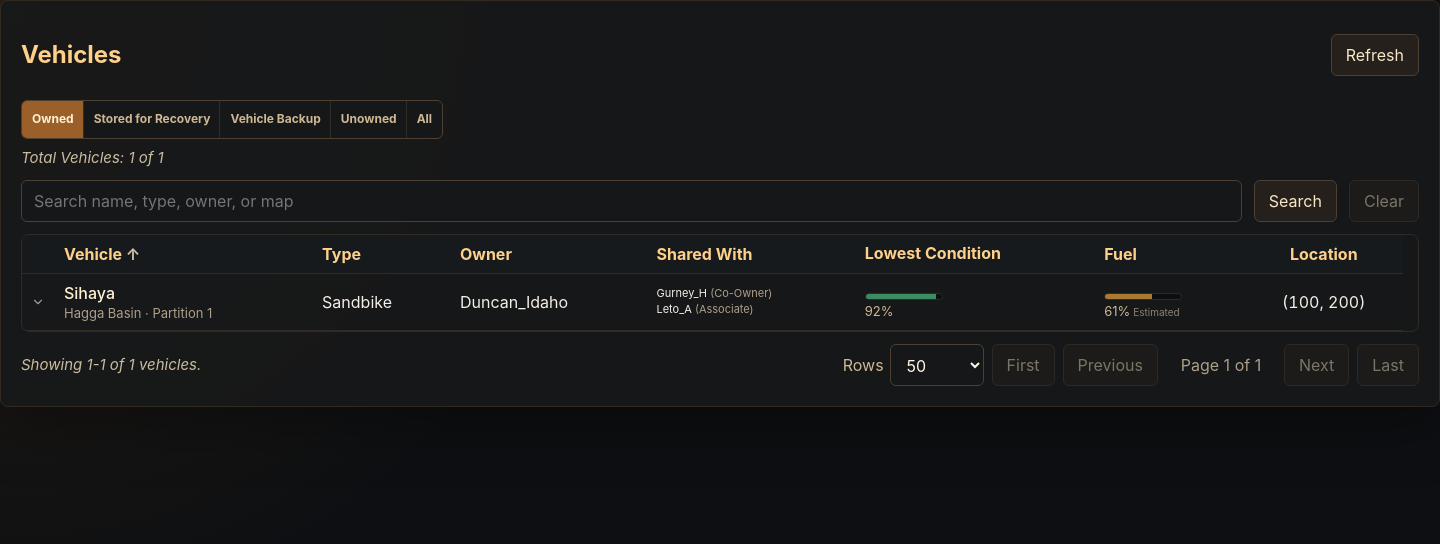
Scenario: VehiclesPanel › View Contents › hides the button when no storage module is fitted
What coordinates should you click on to do the following:
click the button named "Show components for Sihaya"
I would click on:
 (38, 302)
Its box is [26,290,50,314].
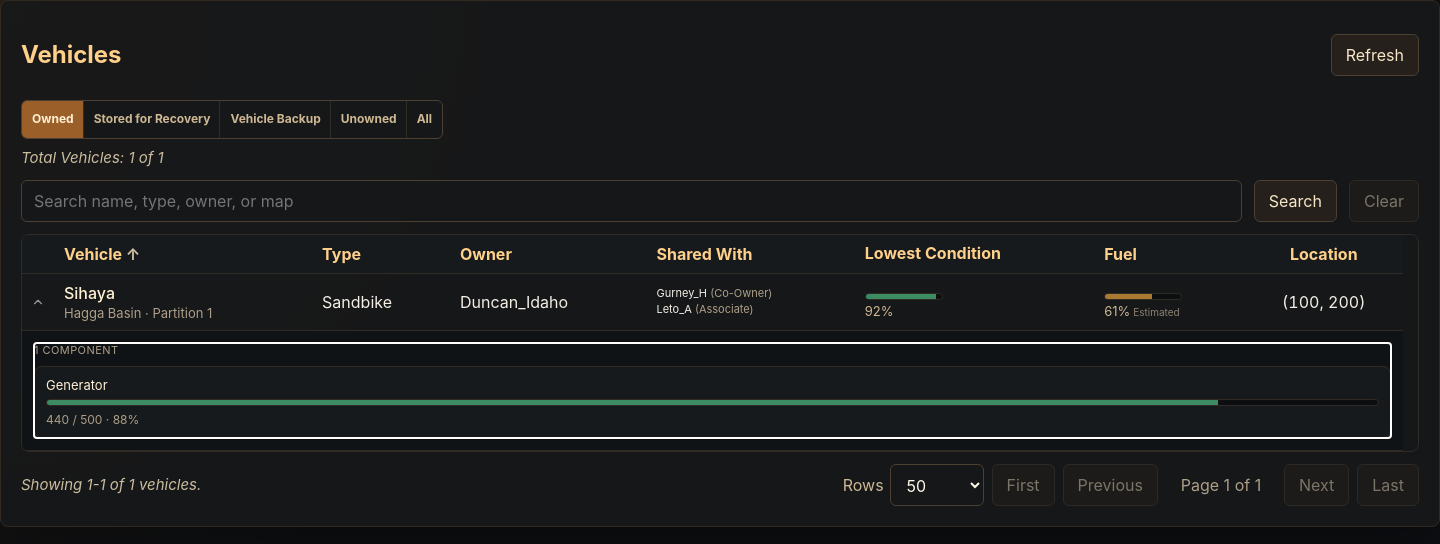
Check: the text "1 component" is shown, box [34,343,118,357]
